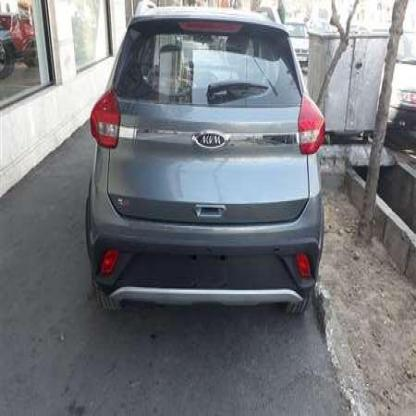Car: (80, 7, 328, 331), (365, 18, 416, 148), (285, 22, 315, 68)
